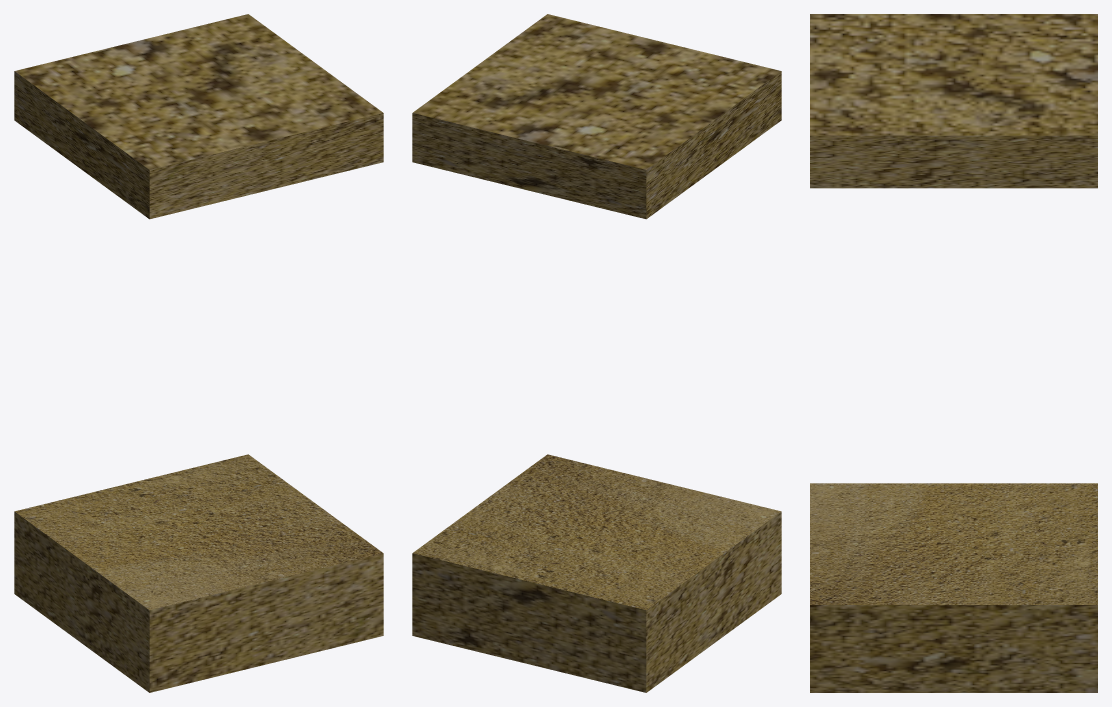
Rendered from SandIndoorPool.glb.
3 views of the same model, side by side, from view 1: azimuth 30°, elevation 25°; view 2: azimuth 150°, elevation 25°; view 3: azimuth 270°, elevation 25° (orthographic). The views are drawn at different scales.
Visible parts, largest first — view 1: SolidFloor; view 2: SolidFloor; view 3: SolidFloor.
Part boxes in pixels (x1,y1,x2,y2): SolidFloor: [14, 14, 383, 692]; SolidFloor: [412, 14, 781, 692]; SolidFloor: [810, 14, 1097, 692].
Size of the model in its own units: 2 by 4.27 by 2.
1 material, 1 textured.
